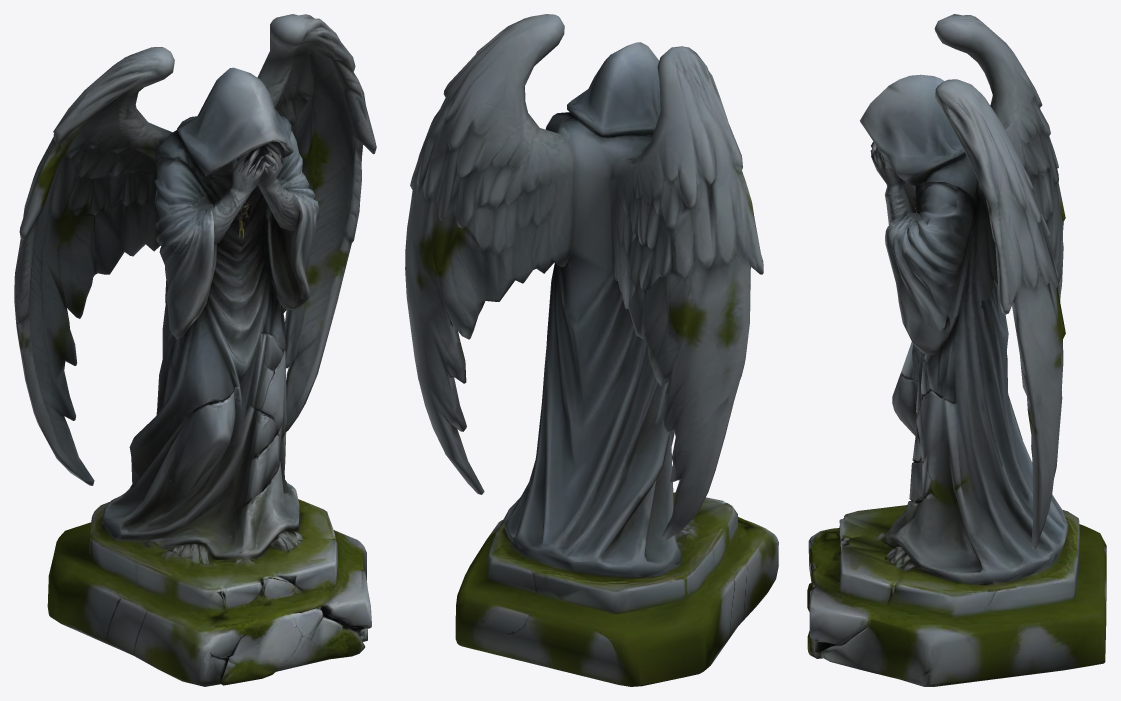
Rendered from WeepingMourner.opt.glb.
3 views of the same model, side by side, from view 1: azimuth 30°, elevation 25°; view 2: azimuth 150°, elevation 25°; view 3: azimuth 270°, elevation 25° (orthographic).
Parts seen in each view (by area): view 1: node_0; view 2: node_0; view 3: node_0.
Boxes of the visible parts, bbox=[...] form: node_0: bbox=[14, 14, 376, 686]; node_0: bbox=[405, 14, 778, 686]; node_0: bbox=[807, 14, 1106, 686].
Size of the model in its own units: 0.6692 by 1.05 by 0.4926.
1 material, 1 textured.
